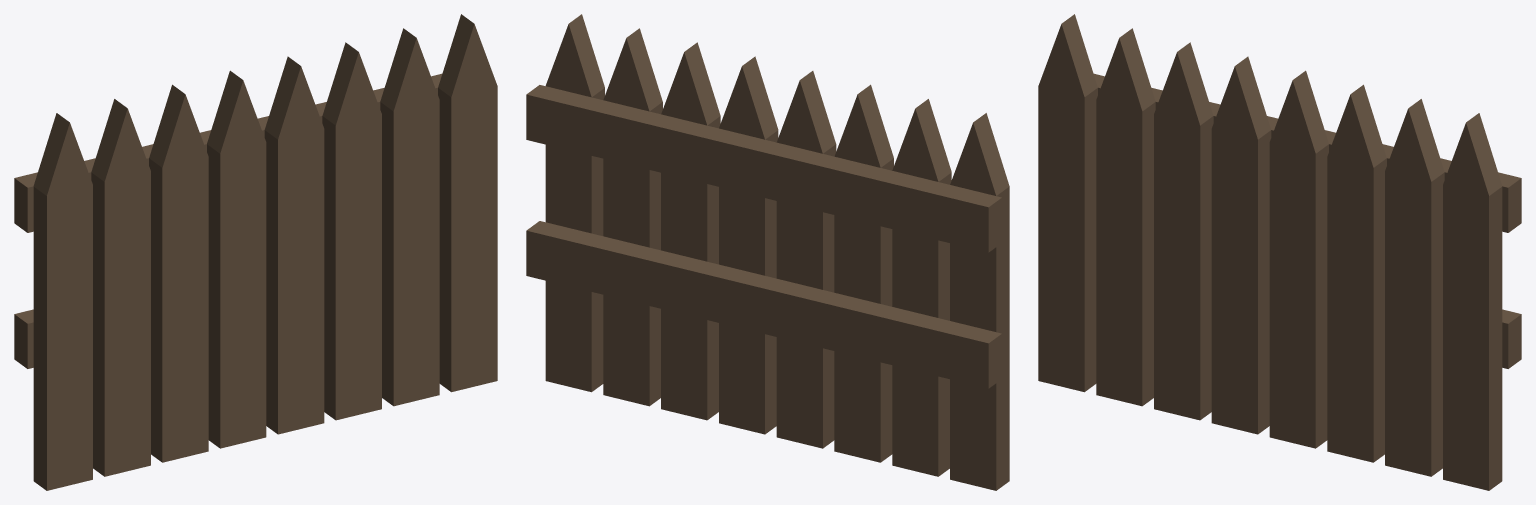
Rendered from Fence_Mesh1.fbx.
The picture shows the model from 3 angles, left to right: view 1: azimuth 30°, elevation 25°; view 2: azimuth 150°, elevation 25°; view 3: azimuth 330°, elevation 25°; orthographic projection.
Visible parts, largest first — view 1: Picket_Fence; view 2: Picket_Fence; view 3: Picket_Fence.
Boxes of the visible parts, x1=… form: Picket_Fence: x1=14, y1=14, x2=497, y2=490; Picket_Fence: x1=526, y1=14, x2=1009, y2=490; Picket_Fence: x1=1038, y1=14, x2=1521, y2=490.
Bounding box in the file's own units: 20 × 15 × 2.
